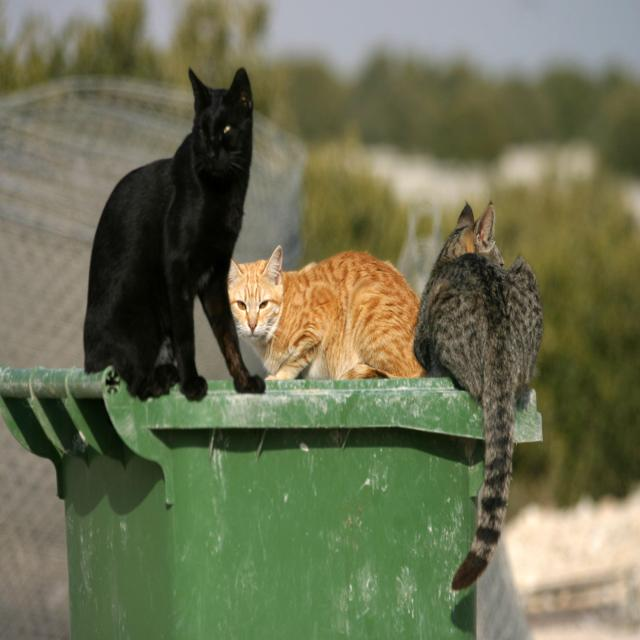cat: (84, 68, 265, 401), (414, 202, 542, 591), (228, 246, 425, 379)
